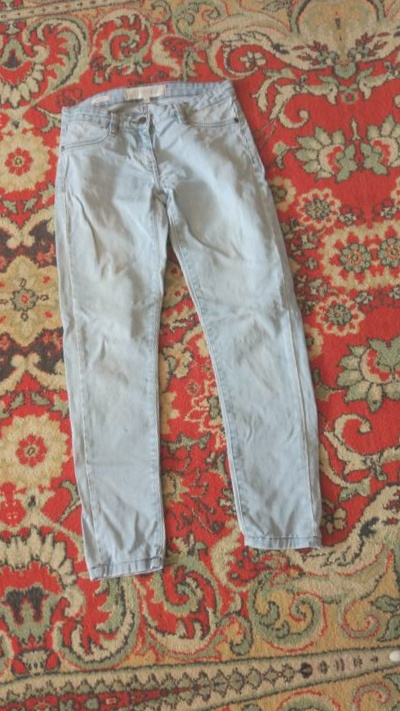Pants: (0, 27, 386, 614), (375, 0, 400, 555)
